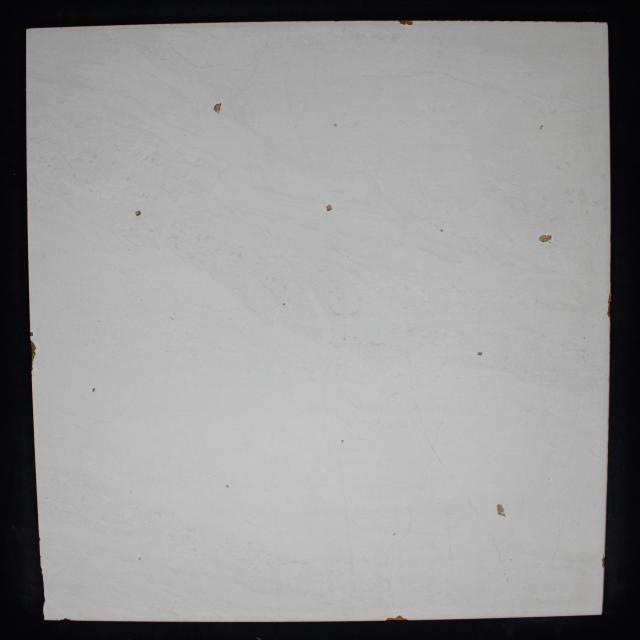edge-chipping: (40, 566, 46, 606), (398, 20, 413, 26), (395, 615, 409, 621), (31, 340, 36, 350), (607, 305, 611, 317), (602, 554, 605, 568), (608, 294, 612, 304), (59, 618, 72, 621), (31, 359, 34, 371), (385, 617, 394, 621), (32, 351, 36, 359), (29, 332, 34, 336)
hole: (496, 503, 506, 517), (538, 234, 552, 243), (213, 102, 222, 113), (326, 204, 332, 212), (135, 210, 141, 216), (477, 351, 483, 356), (539, 125, 543, 129), (282, 302, 286, 306), (92, 388, 95, 392), (441, 229, 444, 232)
line: (419, 415, 443, 465), (490, 536, 509, 582)
